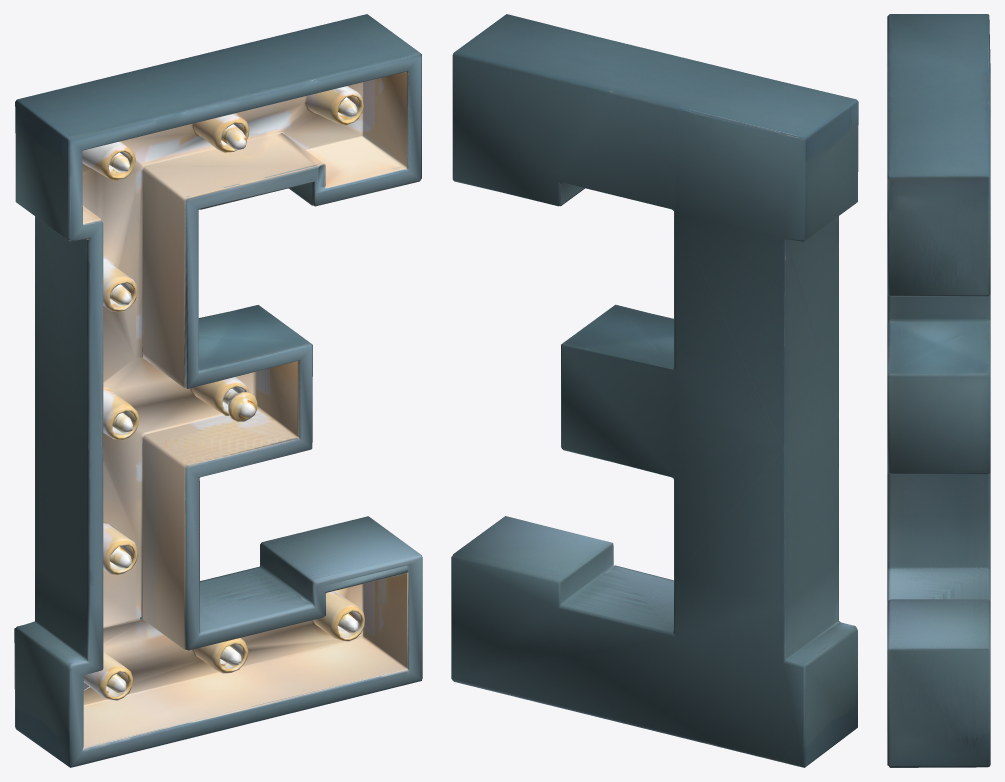
File: Letter_E_0603000638_texture.glb
The picture shows the model from 3 angles, left to right: view 1: azimuth 30°, elevation 25°; view 2: azimuth 150°, elevation 25°; view 3: azimuth 270°, elevation 25°; orthographic projection. The views are drawn at different scales.
Visible parts, largest first — view 1: Mesh_0.003; view 2: Mesh_0.003; view 3: Mesh_0.003.
Part boxes in pixels (x1,y1,x2,y2): Mesh_0.003: [14, 14, 422, 767]; Mesh_0.003: [451, 14, 858, 767]; Mesh_0.003: [887, 14, 990, 767].
Size of the model in its own units: 0.537 by 0.9144 by 0.1446.
Materials: 1 (1 with a texture image).
